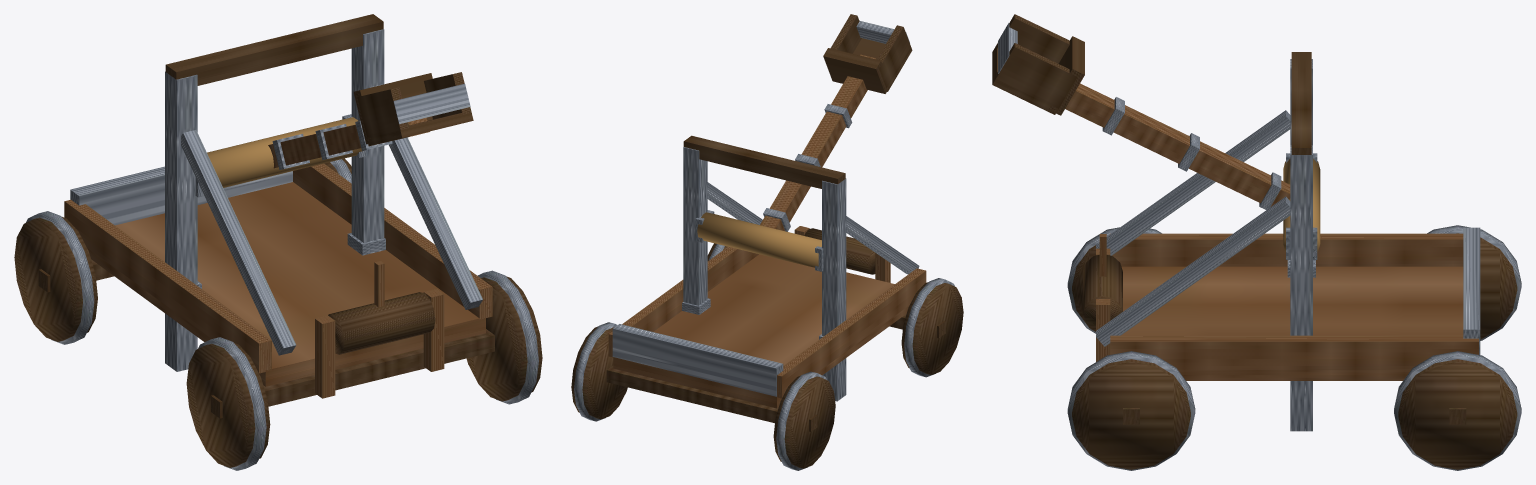
Rendered from ae_catapult_small_iron_lod1.glb.
The picture shows the model from 3 angles, left to right: view 1: azimuth 30°, elevation 25°; view 2: azimuth 150°, elevation 25°; view 3: azimuth 270°, elevation 25°; orthographic projection. The views are drawn at different scales.
Parts seen in each view (by area): view 1: bed, sideL, post_L, wheel_RL_rim, wheel_FL_rim, cross_top, sideR, brace_-0.72, post_R, wheel_RR_rim, front_stop, winch_drum (+14 smaller); view 2: bed, front_stop, sideL, post_L, wheel_RL_rim, wheel_FL_rim, skein, post_R, arm_beam, cross_top, axle_front, sideR (+12 smaller); view 3: bed, sideR, wheel_FR_rim, wheel_RR_rim, sideL, arm_beam, post_R, brace_0.72, brace_-0.72, spoon_R, wheel_FL_rim, cross_top (+13 smaller).
Boxes of the visible parts, <box> form: bed: <box>87,182,485,386</box>; sideL: <box>64,199,271,373</box>; post_L: <box>165,71,197,371</box>; wheel_RL_rim: <box>186,343,270,467</box>; wheel_FL_rim: <box>14,217,97,341</box>; cross_top: <box>165,14,383,85</box>; sideR: <box>293,163,492,319</box>; brace_-0.72: <box>181,130,296,355</box>; post_R: <box>351,29,384,242</box>; wheel_RR_rim: <box>466,276,542,401</box>; front_stop: <box>70,166,292,225</box>; winch_drum: <box>328,292,435,354</box>; bed: <box>613,254,909,408</box>; front_stop: <box>612,324,783,396</box>; sideL: <box>776,268,926,398</box>; post_L: <box>822,178,846,401</box>; wheel_RL_rim: <box>901,282,963,374</box>; wheel_FL_rim: <box>773,376,835,468</box>; skein: <box>697,212,821,267</box>; post_R: <box>683,147,707,305</box>; arm_beam: <box>760,54,876,230</box>; cross_top: <box>683,135,845,188</box>; axle_front: <box>606,366,817,431</box>; sideR: <box>608,246,758,357</box>; bed: <box>1121,266,1463,380</box>; sideR: <box>1110,335,1478,369</box>; wheel_FR_rim: <box>1398,359,1517,469</box>; wheel_RR_rim: <box>1072,359,1190,469</box>; sideL: <box>1110,233,1463,266</box>; arm_beam: <box>1065,83,1290,206</box>; post_R: <box>1290,145,1312,431</box>; brace_0.72: <box>1096,196,1290,346</box>; brace_-0.72: <box>1096,110,1290,255</box>; spoon_R: <box>996,43,1076,108</box>; wheel_FL_rim: <box>1456,233,1517,339</box>; cross_top: <box>1291,52,1311,154</box>.
Size of the model in its own units: 2.3 by 2.92 by 3.73.
3 materials, 3 textured.
